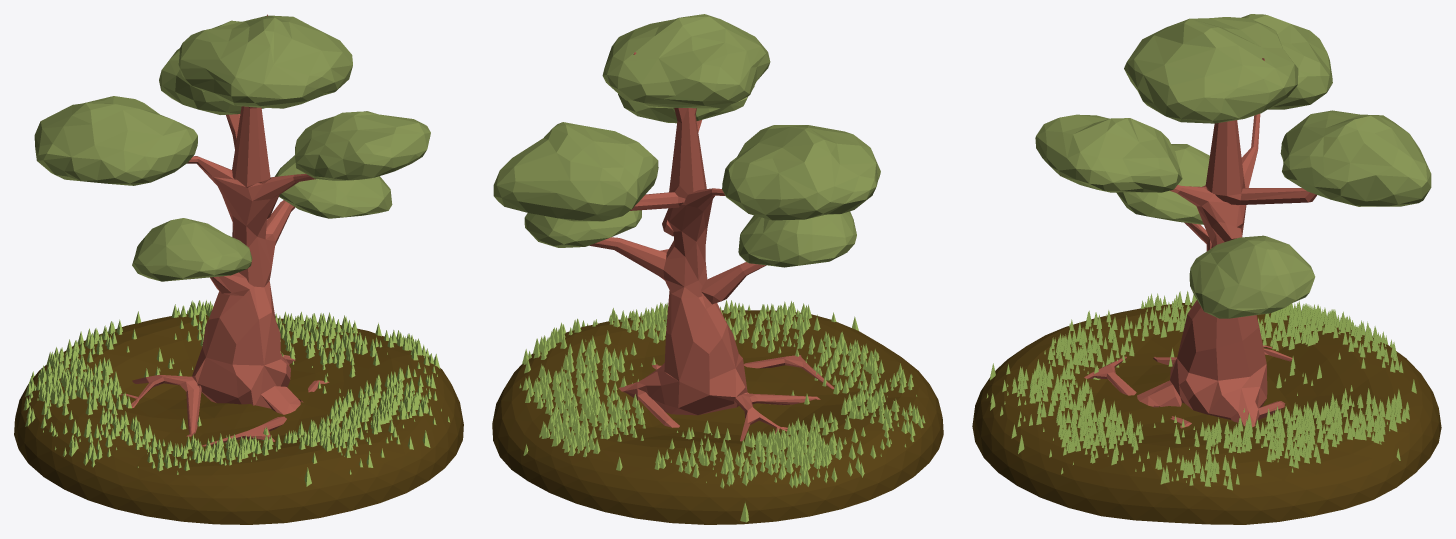
File: norm.glb
3 views of the same model, side by side, from view 1: azimuth 30°, elevation 25°; view 2: azimuth 150°, elevation 25°; view 3: azimuth 270°, elevation 25° (orthographic). The views are drawn at different scales.
Visible parts, largest first — view 1: 棱角球, Tree, Icosphere.002, Icosphere, Icosphere.003, Icosphere.001, Icosphere.004, Icosphere.005; view 2: 棱角球, Tree, Icosphere.002, Icosphere, Icosphere.005, Icosphere.001, Icosphere.004, Icosphere.003; view 3: 棱角球, Tree, Icosphere.002, Icosphere.005, Icosphere.003, Icosphere.004, Icosphere, Icosphere.001.
Part boxes in pixels (<box>): 棱角球: <box>14,314,463,524</box>; Tree: <box>119,14,329,446</box>; Icosphere.002: <box>178,15,352,108</box>; Icosphere: <box>34,96,197,185</box>; Icosphere.003: <box>295,111,430,180</box>; Icosphere.001: <box>132,218,252,281</box>; Icosphere.004: <box>274,155,392,218</box>; Icosphere.005: <box>159,20,264,114</box>; 棱角球: <box>492,310,943,524</box>; Tree: <box>589,52,834,441</box>; Icosphere.002: <box>602,14,770,108</box>; Icosphere: <box>722,125,880,220</box>; Icosphere.005: <box>493,122,658,221</box>; Icosphere.001: <box>738,211,856,267</box>; Icosphere.004: <box>524,210,641,247</box>; Icosphere.003: <box>618,86,754,123</box>; 棱角球: <box>972,302,1441,524</box>; Tree: <box>1084,58,1316,428</box>; Icosphere.002: <box>1124,17,1298,123</box>; Icosphere.005: <box>1280,110,1431,206</box>; Icosphere.003: <box>1035,114,1182,192</box>; Icosphere.004: <box>1189,235,1315,318</box>; Icosphere: <box>1241,14,1332,109</box>; Icosphere.001: <box>1116,144,1209,224</box>.
Bounding box in the file's own units: 6.32 × 6.26 × 6.32.
